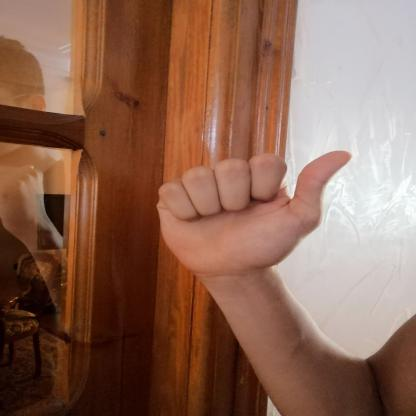DAD: (137, 139, 366, 285)
